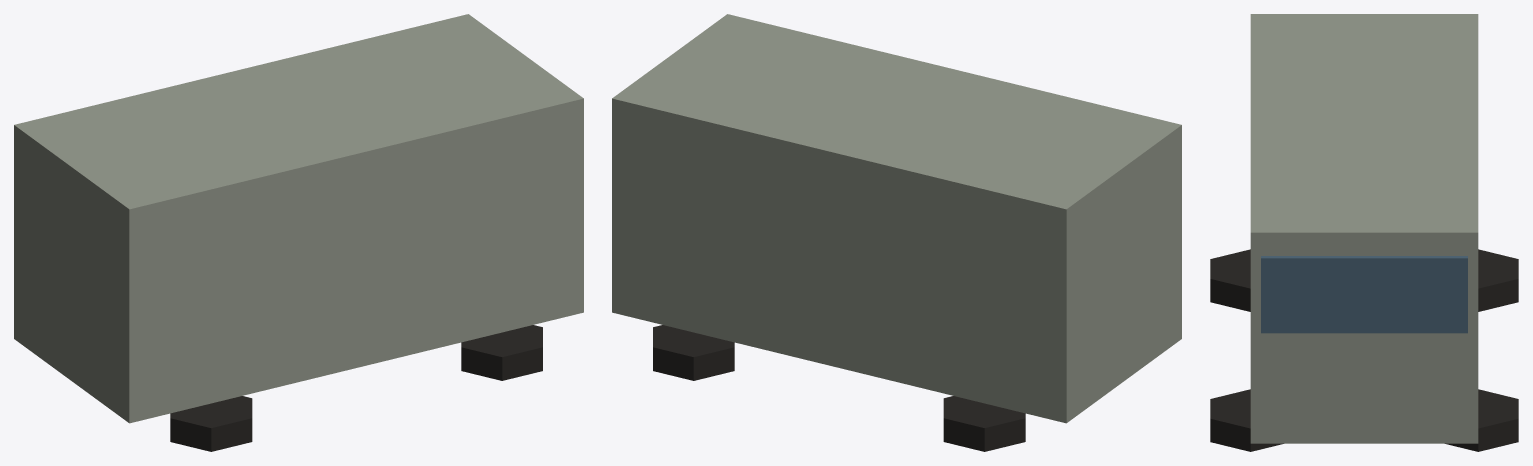
File: van.glb
The picture shows the model from 3 angles, left to right: view 1: azimuth 30°, elevation 25°; view 2: azimuth 150°, elevation 25°; view 3: azimuth 270°, elevation 25°; orthographic projection.
Parts seen in each view (by area): view 1: van_mesh; view 2: van_mesh; view 3: van_mesh.
Part boxes in pixels (bbox=[...]): van_mesh: bbox=[14, 14, 583, 451]; van_mesh: bbox=[612, 14, 1181, 451]; van_mesh: bbox=[1210, 14, 1518, 451].
Size of the model in its own units: 0.101 by 0.051 by 0.0596.
